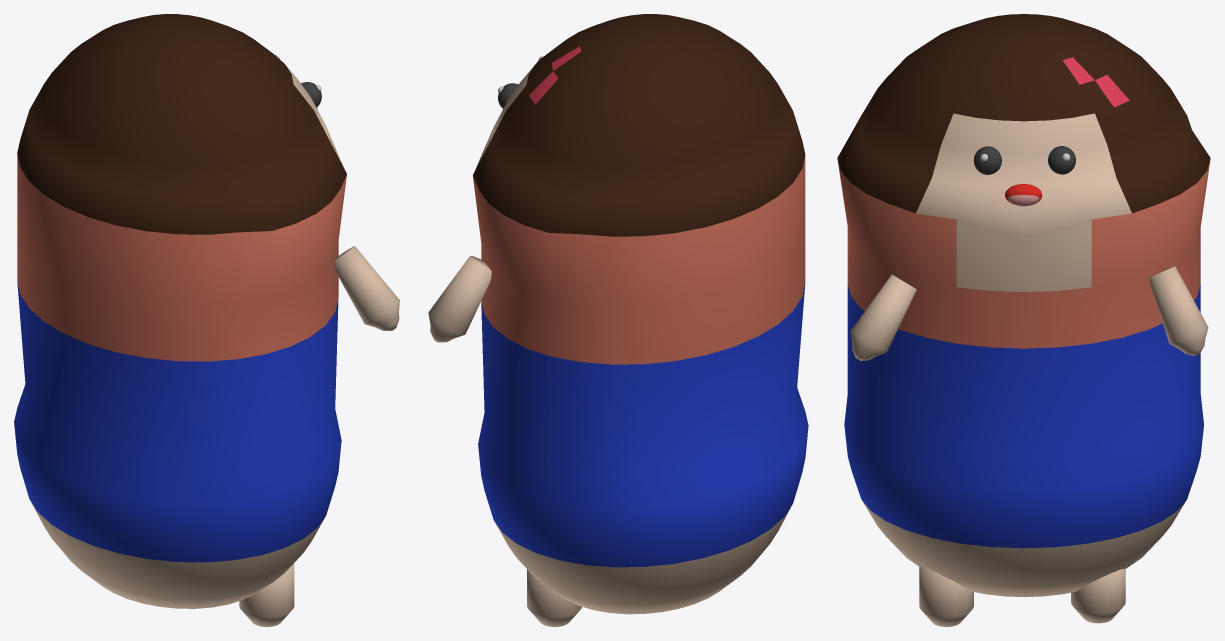
File: Tsumtsum.fbx
3 views of the same model, side by side, from view 1: azimuth 30°, elevation 25°; view 2: azimuth 150°, elevation 25°; view 3: azimuth 270°, elevation 25° (orthographic).
Visible parts, largest first — view 1: Sphere, Cylinder.003, Cylinder; view 2: Sphere, Cylinder.002, Cylinder.001; view 3: Sphere, Cylinder.002, Cylinder.003, Cylinder, Cylinder.001, Sphere.001, Sphere.002.
Boxes of the visible parts, <box> form: Sphere: <box>14,14,346,608</box>; Cylinder.003: <box>334,246,399,330</box>; Cylinder: <box>239,563,294,626</box>; Sphere: <box>473,14,808,614</box>; Cylinder.002: <box>428,256,491,342</box>; Cylinder.001: <box>527,569,581,626</box>; Sphere: <box>837,14,1210,597</box>; Cylinder.002: <box>1149,266,1208,355</box>; Cylinder.003: <box>850,274,916,360</box>; Cylinder: <box>919,566,973,626</box>; Cylinder.001: <box>1071,569,1125,623</box>; Sphere.001: <box>973,146,1001,174</box>; Sphere.002: <box>1048,146,1075,174</box>.
Bounding box in the file's own units: 178 × 349 × 208.
